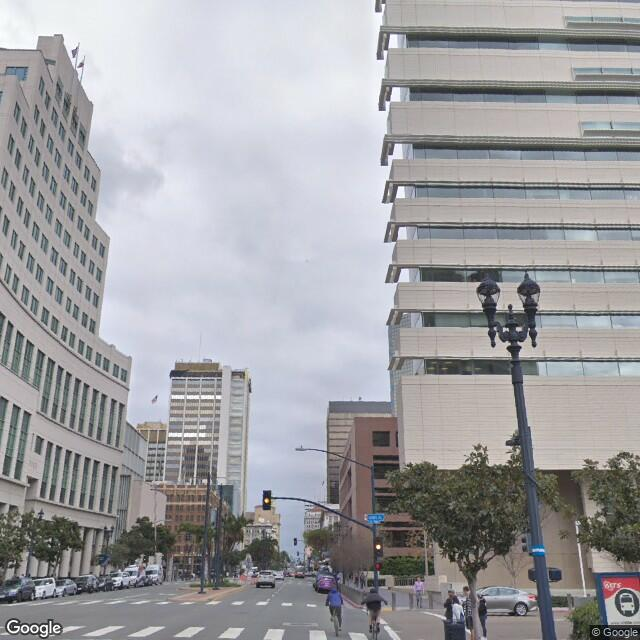light: (518, 270, 539, 325), (478, 274, 499, 323)
window: (369, 426, 392, 449)
